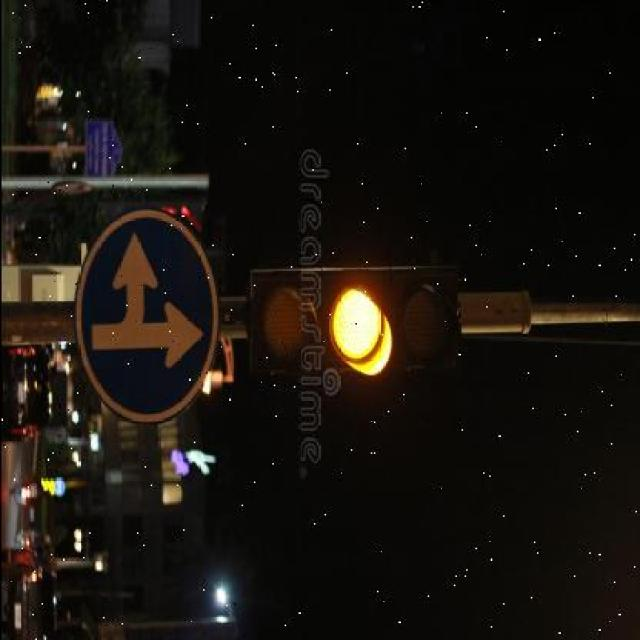yellow-light: (218, 248, 564, 418)
